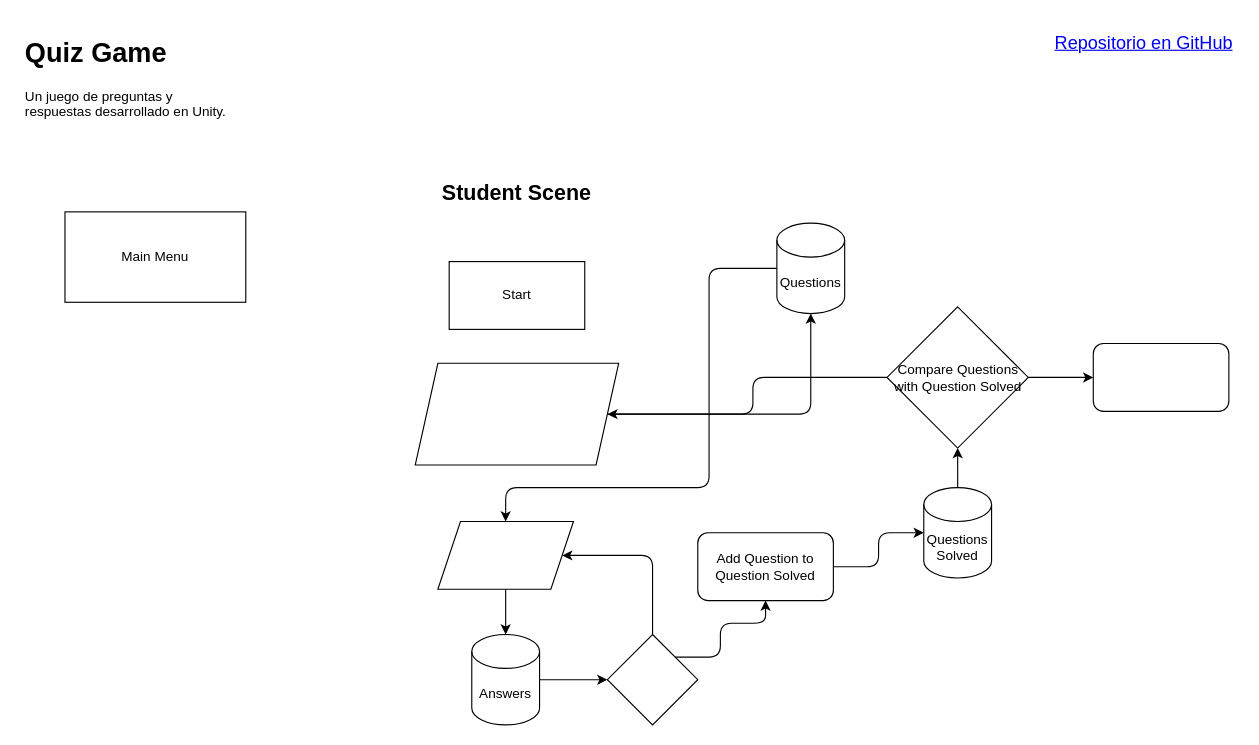
This 1259x745 diagram has some shape labels left out. Each missing label, with the box of its shape:
Do Question: (437, 520, 573, 589)
End Game: (1092, 342, 1229, 411)
Question Correct: (606, 633, 698, 725)
Random Question Generation: (414, 362, 619, 465)
